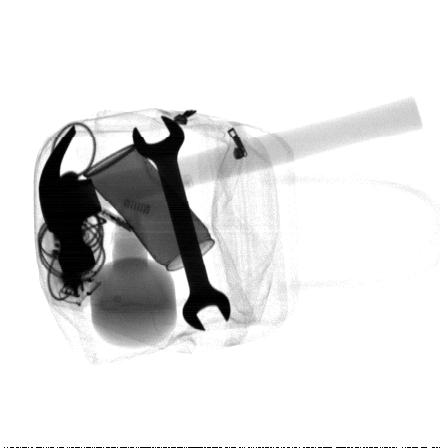Hammer: (38, 97, 424, 274)
Wrench: (131, 114, 230, 332)
